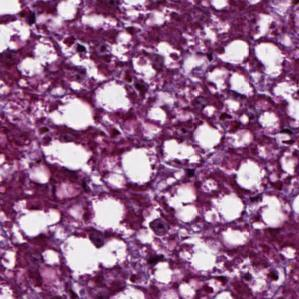steatosis: (115, 145, 156, 184), (92, 79, 131, 111), (55, 100, 98, 129)
